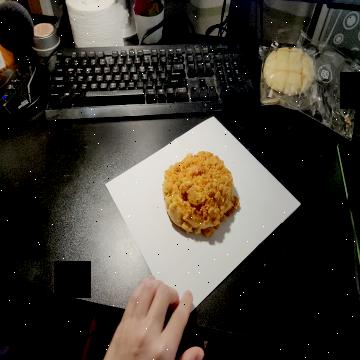soboru_bread: (162, 150, 240, 238)
